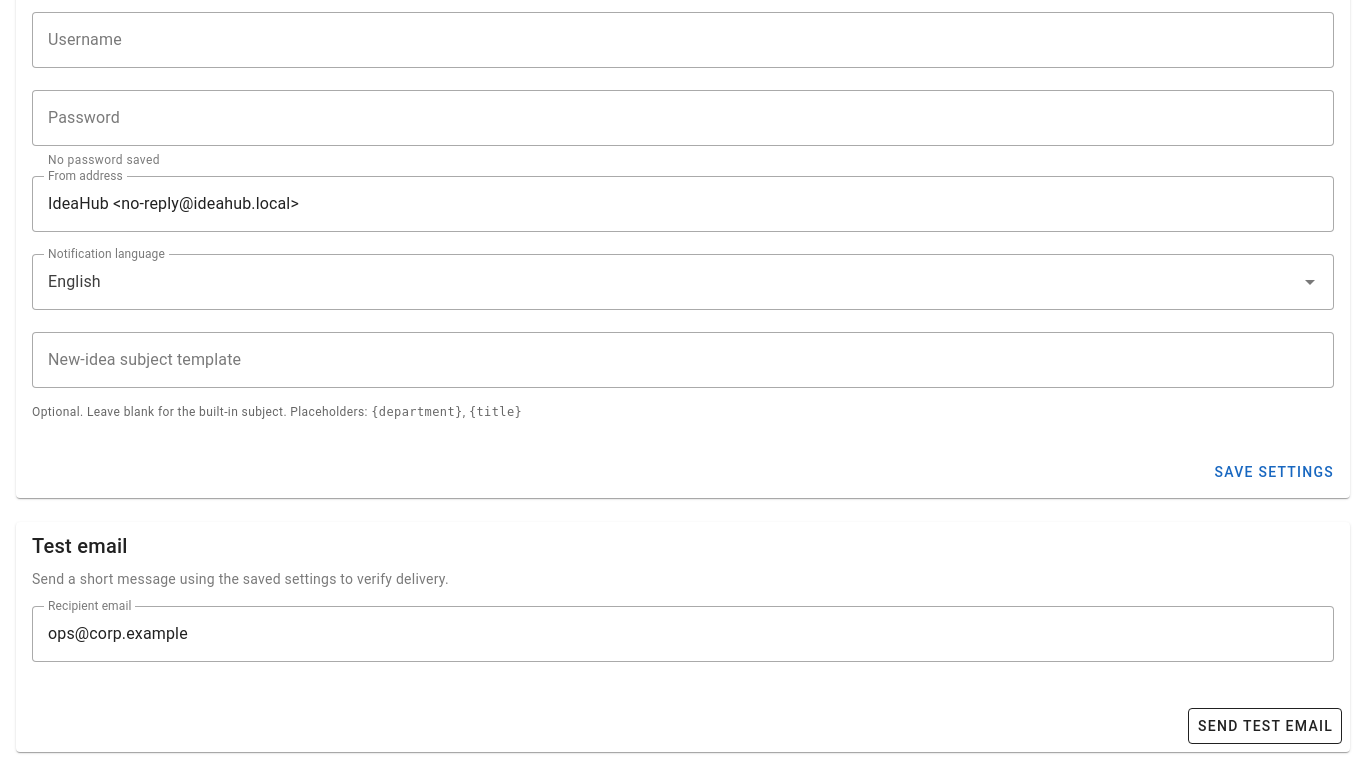
Test: MailSettingsPage › maps the connection_refused reason to its own message
(page scrolled)
Click the button "Send test email" at x=1265, y=726, box left=1188, top=708, right=1342, bottom=744
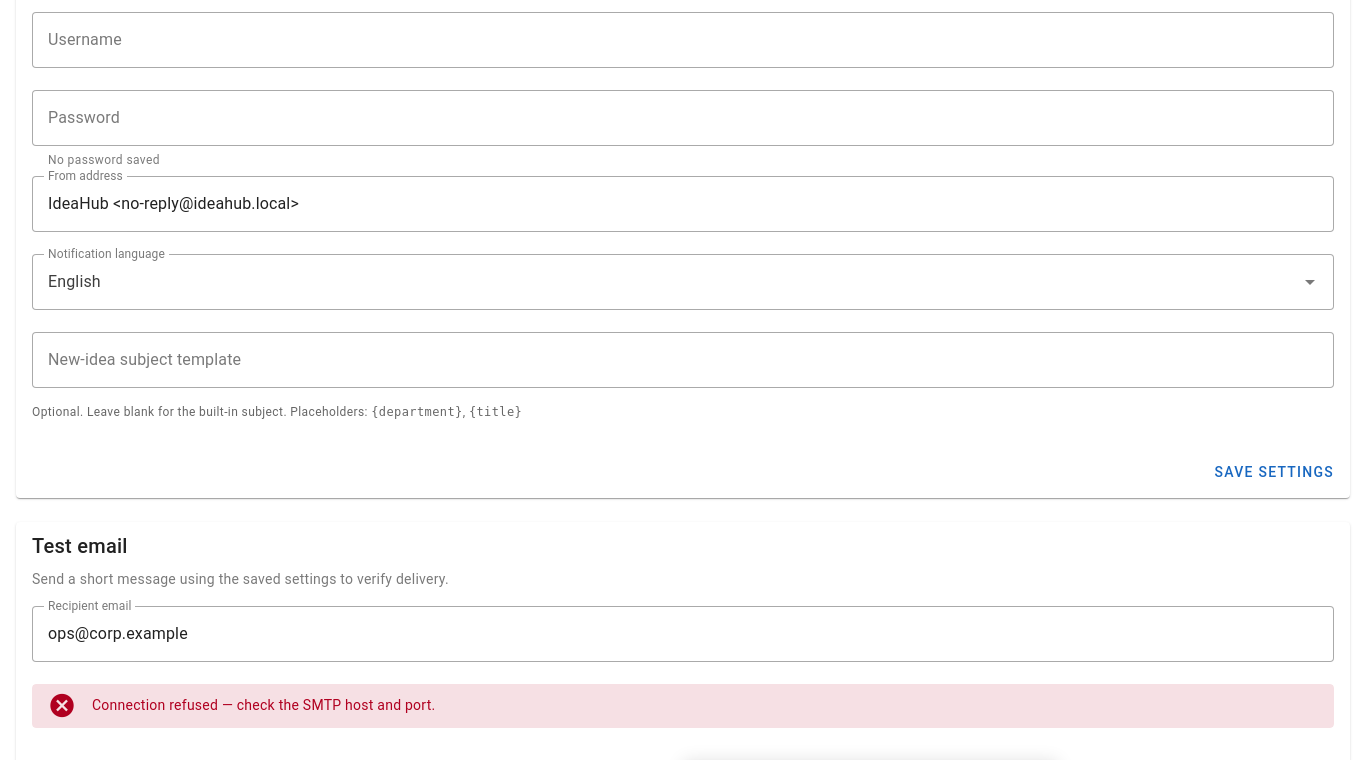
Check: the text "Connection refused" is shown, box left=92, top=697, right=436, bottom=713
